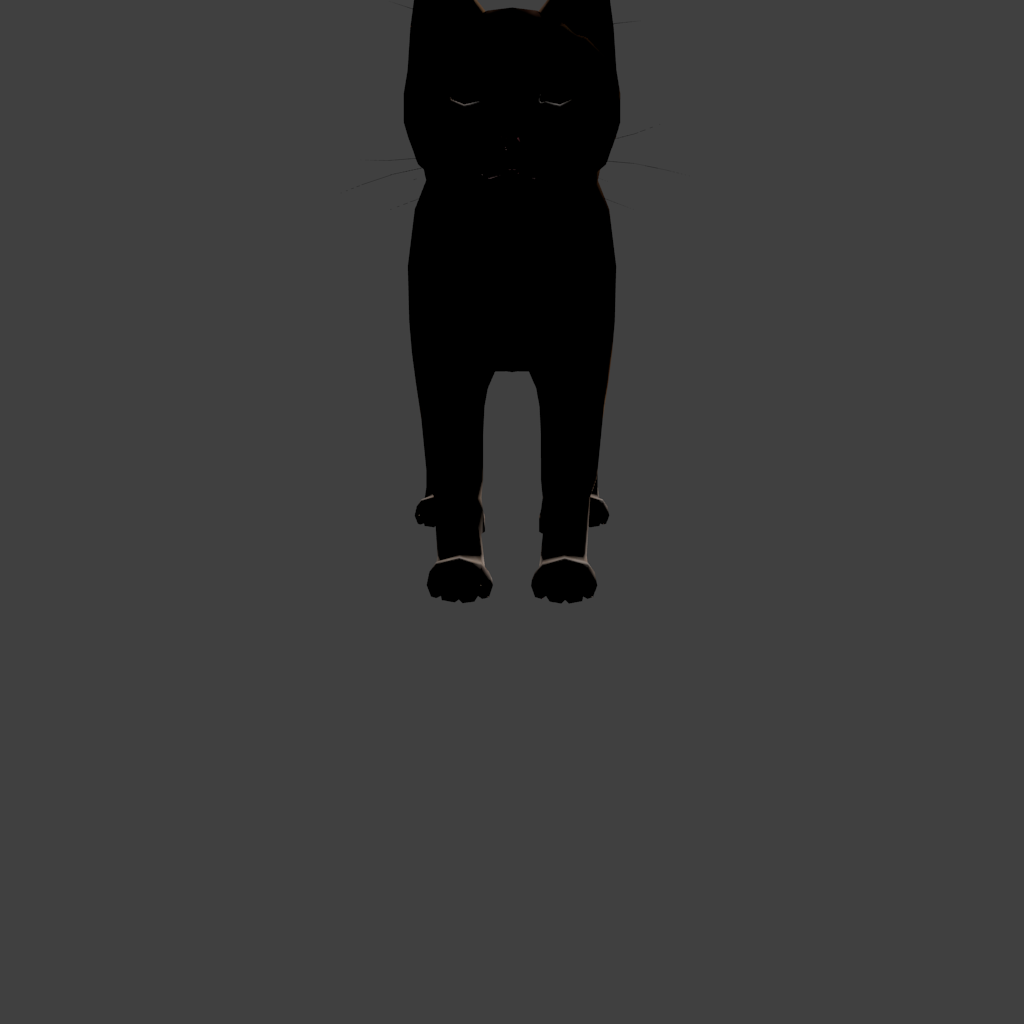Cat: (337, 0, 354, 604)
